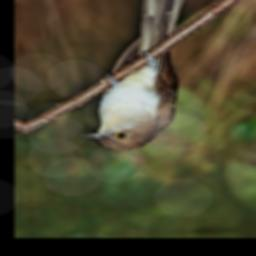Cuckoo: (72, 0, 199, 154)
